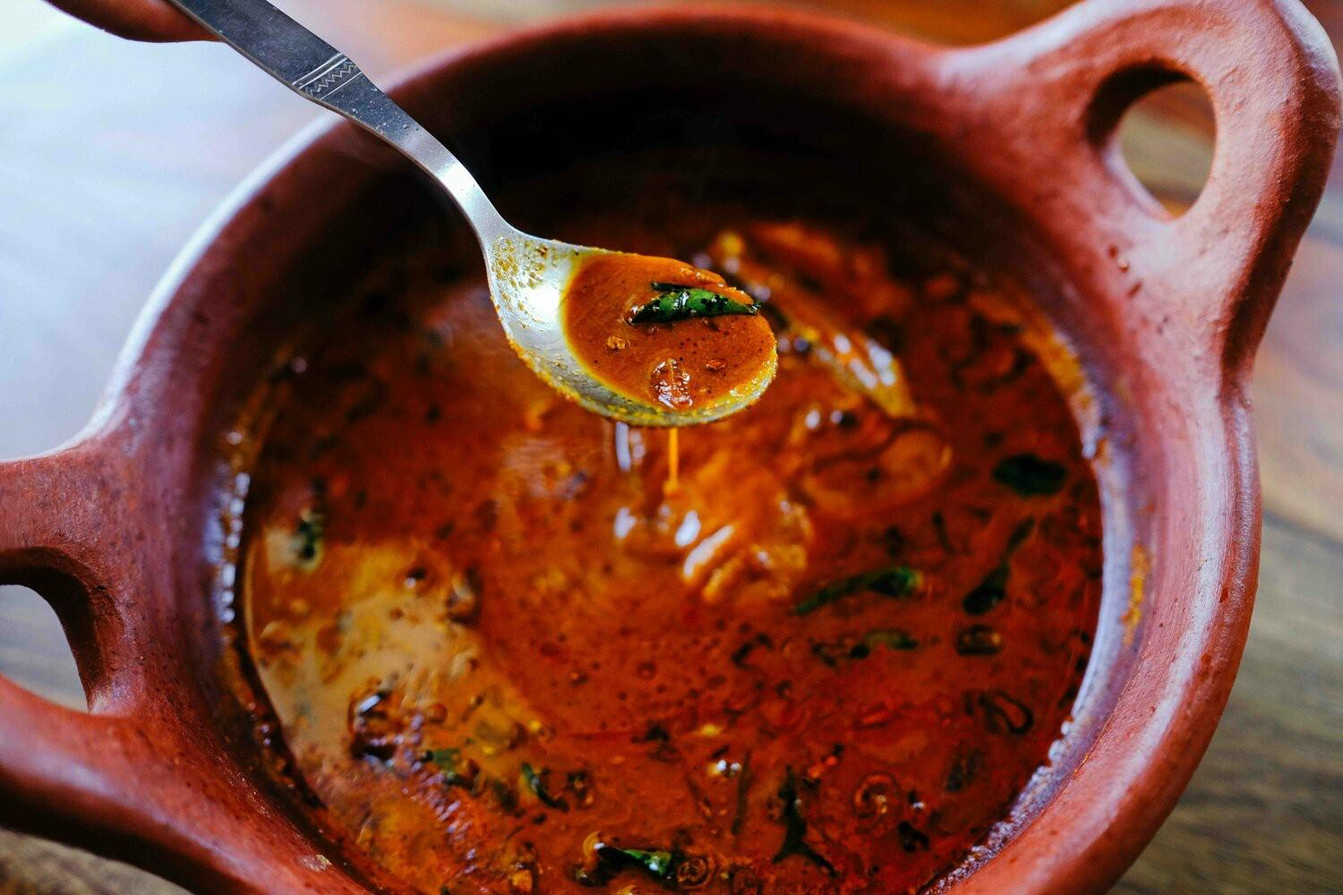FishCurry: (248, 173, 1104, 895)
